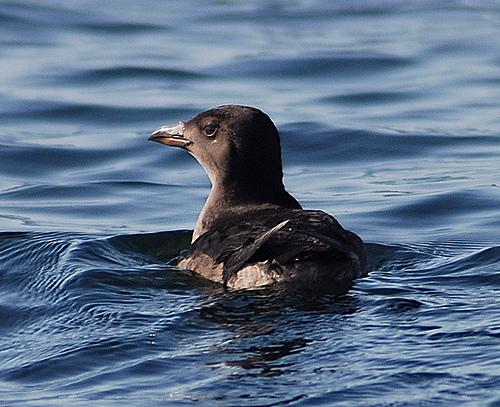008.Rhinoceros_Auklet: (147, 102, 369, 296)
